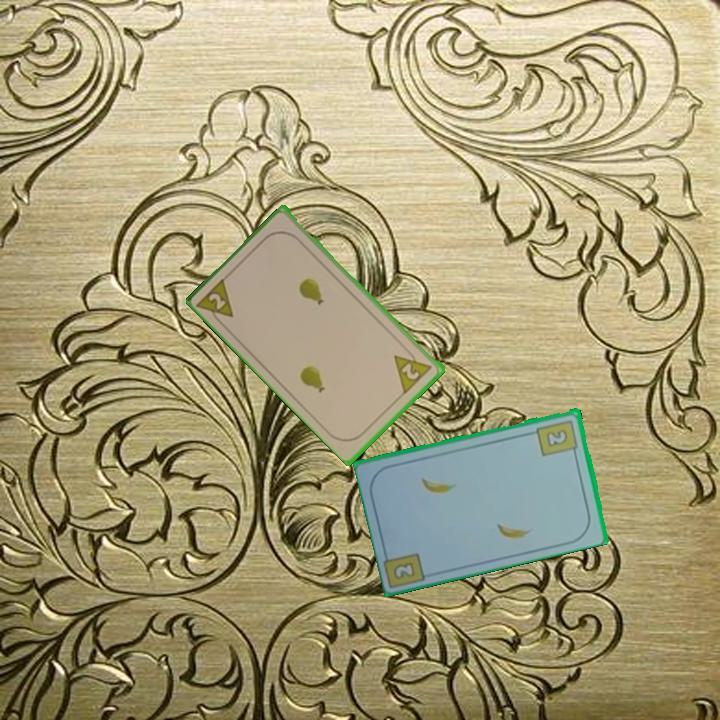2b: (534, 416, 581, 459), (390, 558, 418, 582)
2p: (194, 273, 237, 330), (390, 344, 435, 396)
